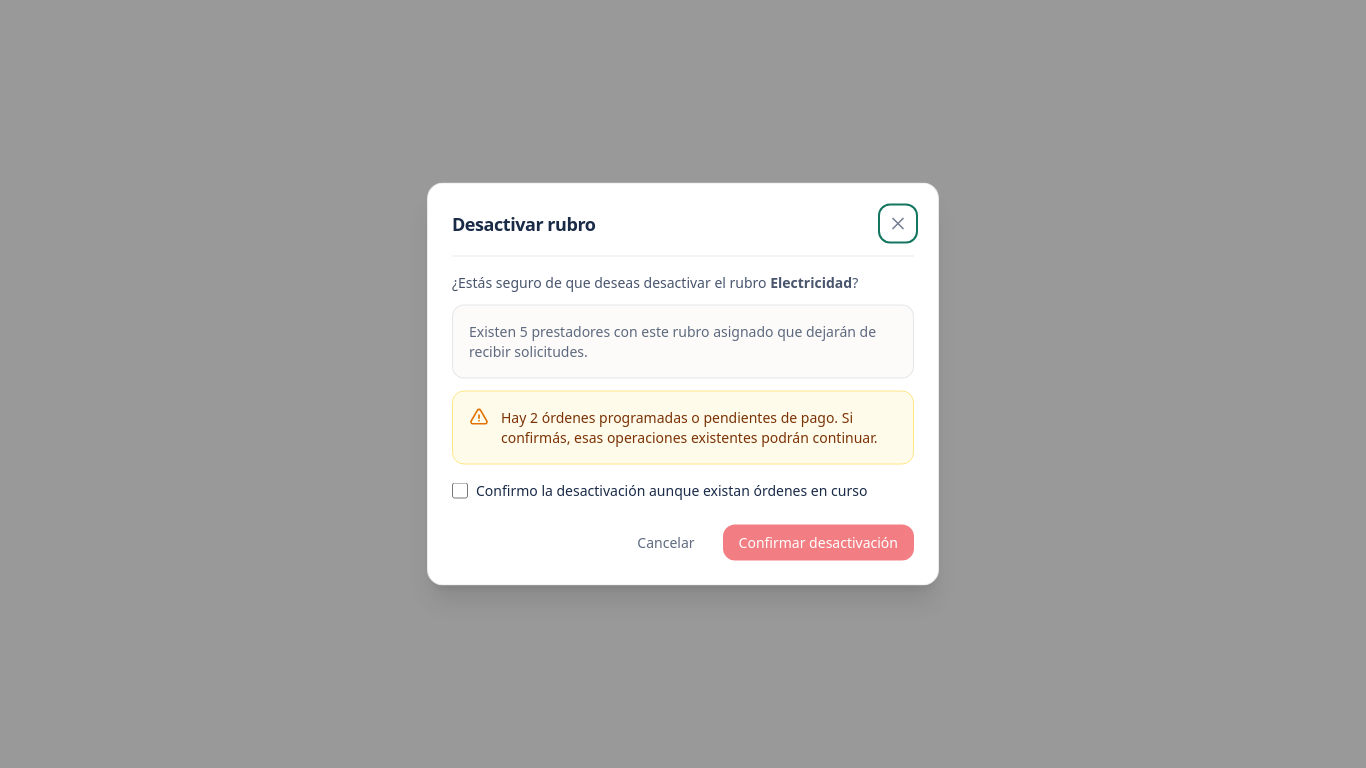
DeactivateCategoryModal › warns about ongoing orders and requires explicit confirmation
The image size is (1366, 768).
Expected: the message shows "Hay 2 órdenes programadas o pendientes de pago", [501,408,878,446]
Expected: the button "Confirmar desactivación" is disabled, [723,524,914,560]
Click the checkbox labelled "Confirmo la desactivación aunque existan órdenes en curso" at coordinates (460, 490), box [452,482,468,498]
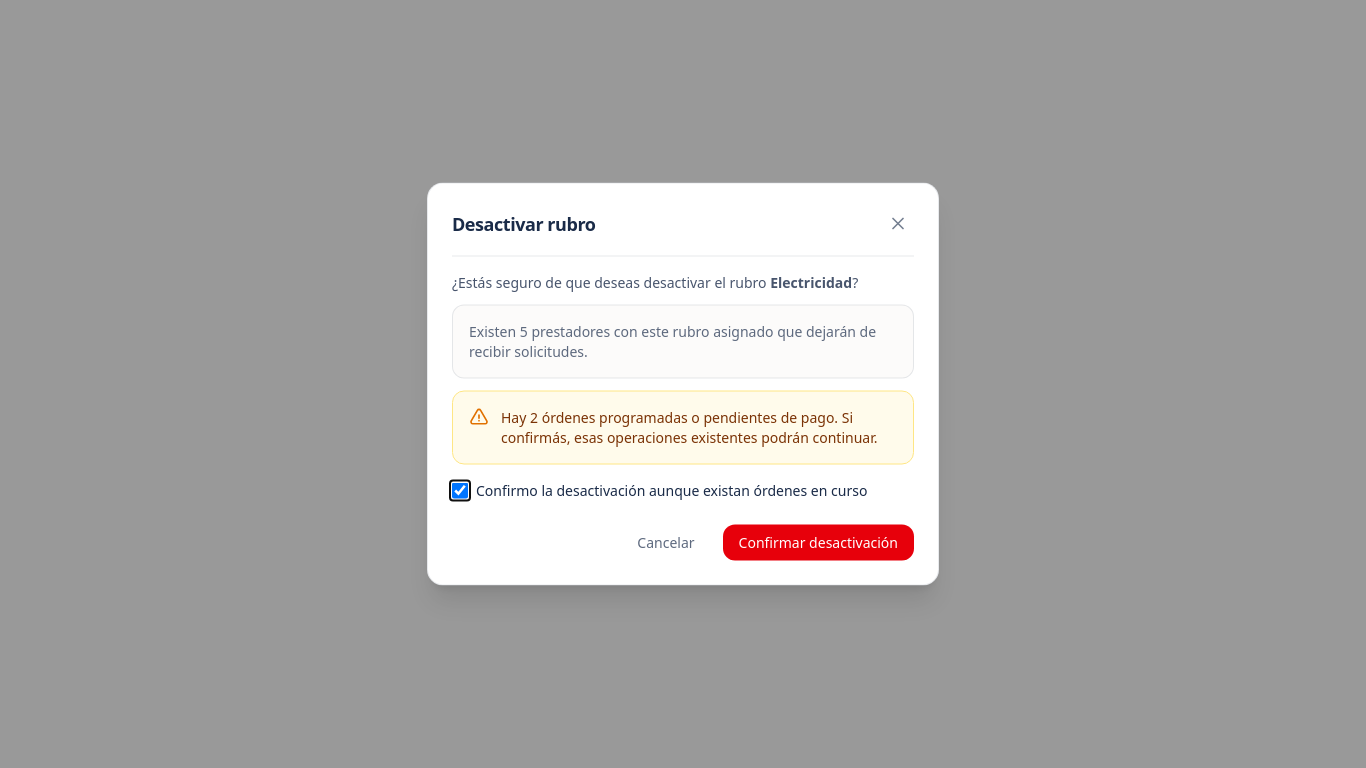
Expected: the button "Confirmar desactivación" is enabled, [723,524,914,560]
